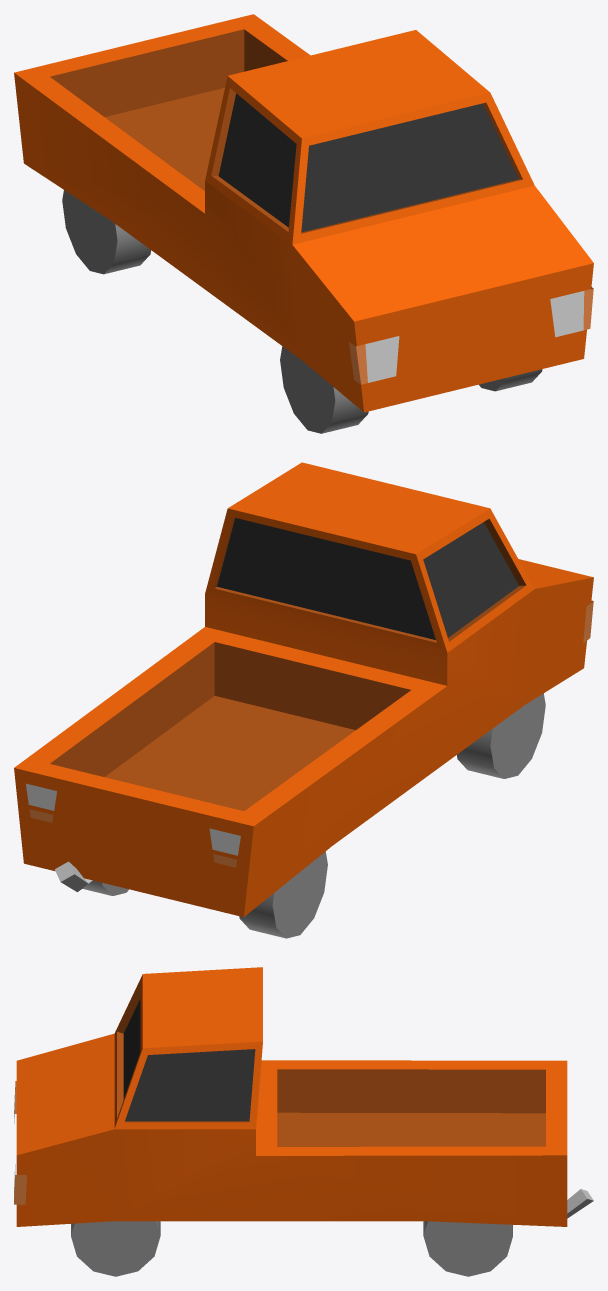
The model's file is pickup_01.fbx.
The picture shows the model from 3 angles, top to bottom: view 1: azimuth 30°, elevation 25°; view 2: azimuth 150°, elevation 25°; view 3: azimuth 270°, elevation 25°; orthographic projection. The views are drawn at different scales.
Visible parts, largest first — view 1: pickup_01; view 2: pickup_01; view 3: pickup_01.
Boxes of the visible parts, x1,y1,x2,y2 form: pickup_01: (14, 14, 593, 433); pickup_01: (14, 462, 593, 938); pickup_01: (14, 967, 593, 1276).
Bounding box in the file's own units: 1.6 × 1.8 × 4.1.
